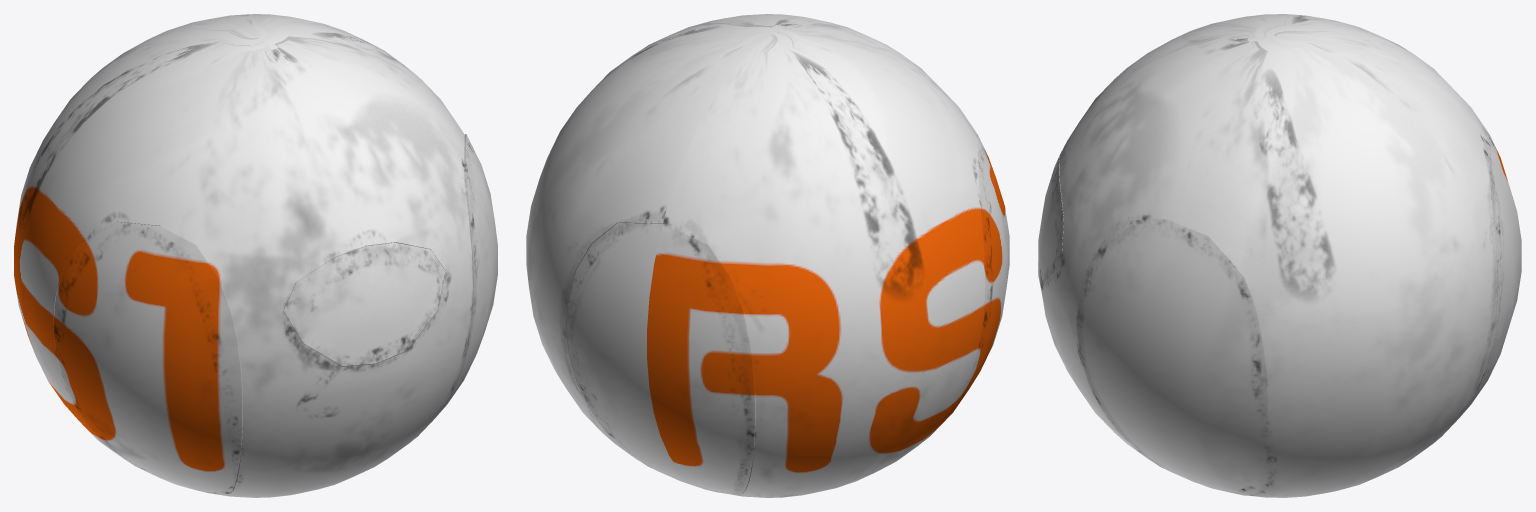
File: robotSphere.fbx
The picture shows the model from 3 angles, left to right: view 1: azimuth 30°, elevation 25°; view 2: azimuth 150°, elevation 25°; view 3: azimuth 270°, elevation 25°; orthographic projection.
Visible parts, largest first — view 1: body, right_plate, eyeLid, left_plate; view 2: body, rear_plate, right_plate; view 3: body, left_plate, rear_plate, eyeLid.
Boxes of the visible parts, box(x1,y1,x2,y2) form: body: box(14, 14, 472, 497); right_plate: box(53, 222, 242, 495); eyeLid: box(283, 242, 445, 365); left_plate: box(416, 134, 497, 437); body: box(526, 14, 985, 497); rear_plate: box(566, 222, 755, 495); right_plate: box(933, 135, 1009, 432); body: box(1038, 14, 1497, 497); left_plate: box(1077, 219, 1267, 495); rear_plate: box(1459, 135, 1521, 417); eyeLid: box(1038, 155, 1063, 286).
Bounding box in the file's own units: 9.21 × 9.23 × 9.2.
Materials: 3 (1 with a texture image).
